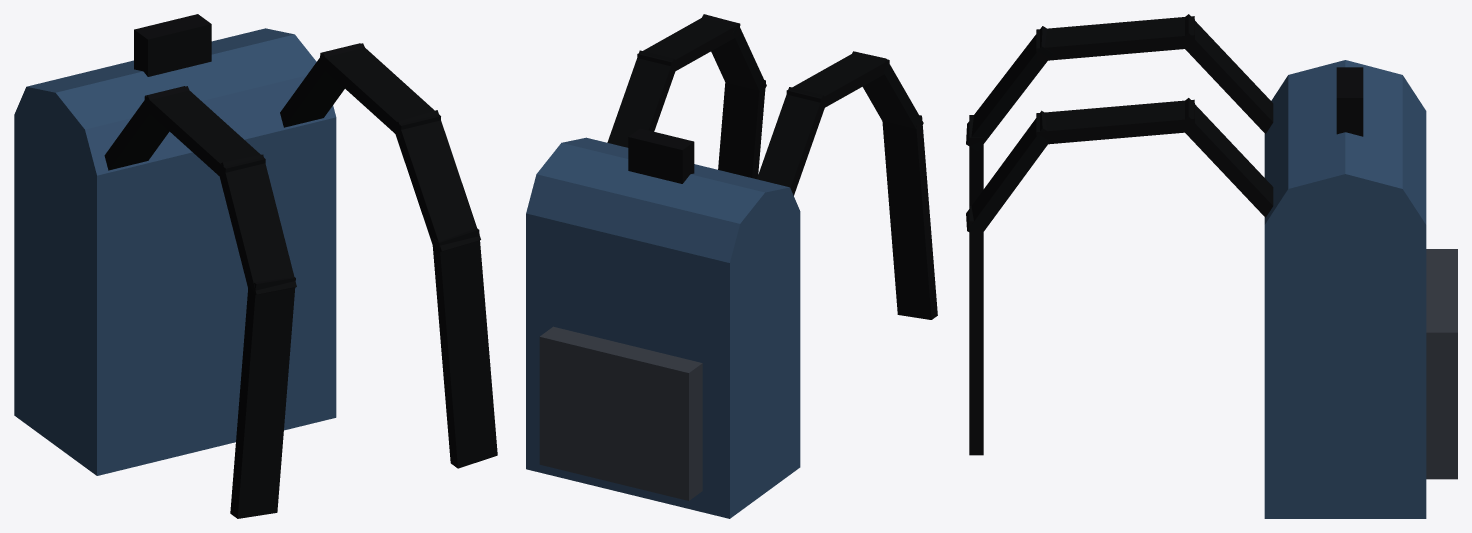
The model's file is backpack.glb.
3 views of the same model, side by side, from view 1: azimuth 30°, elevation 25°; view 2: azimuth 150°, elevation 25°; view 3: azimuth 270°, elevation 25° (orthographic). The views are drawn at different scales.
Visible parts, largest first — view 1: backpack; view 2: backpack; view 3: backpack.
Part boxes in pixels (<box>): backpack: <box>14,14,497,518</box>; backpack: <box>526,14,937,518</box>; backpack: <box>966,14,1457,518</box>.
Bounding box in the file's own units: 0.3262 × 0.4863 × 0.5467.
1 material, 1 textured.
